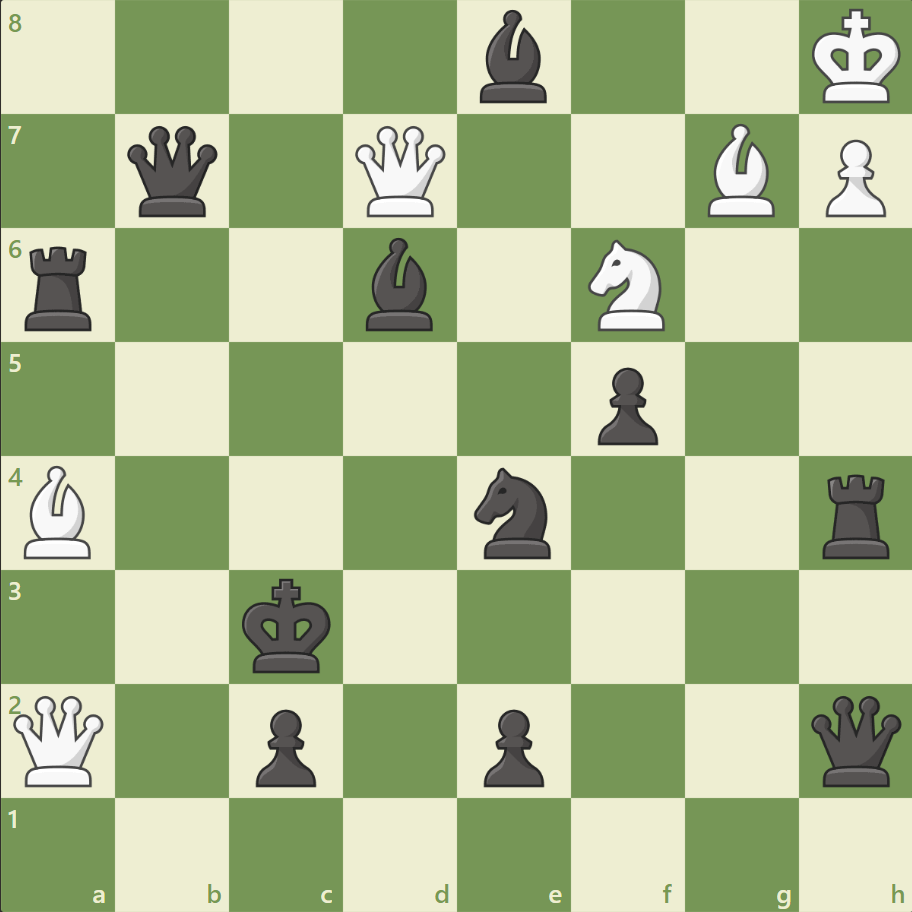B: (17, 460, 101, 563), (698, 120, 782, 222)
K: (806, 4, 906, 112)
N: (579, 234, 676, 337)
P: (815, 132, 889, 223)
Q: (351, 122, 450, 222), (10, 690, 109, 789)
b: (471, 6, 555, 109), (358, 233, 442, 336)
k: (238, 571, 338, 679)
n: (465, 461, 562, 564)
p: (247, 700, 322, 791), (474, 700, 549, 791), (588, 359, 662, 450)
q: (124, 122, 223, 222), (805, 690, 904, 789)
r: (19, 239, 102, 336), (814, 466, 897, 563)
